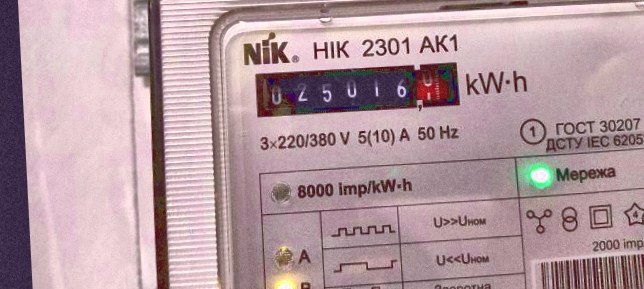0: (344, 76, 359, 99), (269, 83, 283, 106), (420, 67, 433, 87)
1: (369, 73, 381, 99), (423, 90, 432, 101)
2: (294, 79, 309, 103)
5: (320, 81, 332, 103)
6: (393, 75, 408, 101)
screen: (244, 52, 469, 124)
